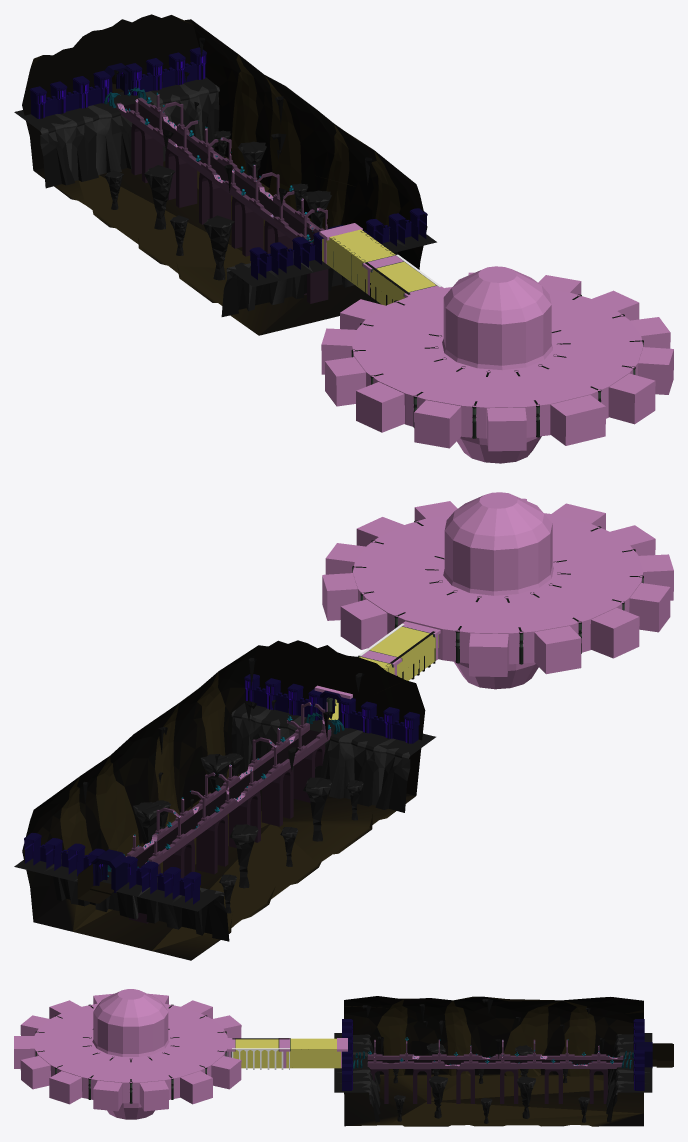
Rendered from CRIST_SCENE.FBX.
3 views of the same model, one above another, from view 1: azimuth 30°, elevation 25°; view 2: azimuth 150°, elevation 25°; view 3: azimuth 270°, elevation 25° (orthographic). The views are drawn at different scales.
Parts seen in each view (by area): view 1: sten_1, grot, skali, most, sten, Object027, Object026, sten.001; view 2: sten_1, grot, skali, most, sten, Object026, sten.001; view 3: grot, sten_1, skali, most, sten, Object027, Object026, Object031, sten.001, kris.
Part boxes in pixels (box(x1,y1,x2,y2)): sten_1: box(321, 266, 673, 463); grot: box(22, 14, 427, 335); skali: box(14, 37, 436, 316); most: box(116, 94, 328, 303); sten: box(29, 47, 427, 279); Object027: box(322, 229, 395, 293); Object026: box(370, 262, 436, 305); sten.001: box(351, 294, 643, 438); sten_1: box(322, 492, 673, 689); grot: box(22, 640, 425, 960); skali: box(14, 658, 435, 941); most: box(126, 702, 331, 923); sten: box(24, 674, 419, 904); Object026: box(370, 626, 438, 680); sten.001: box(352, 520, 643, 664); grot: box(344, 996, 673, 1126); sten_1: box(14, 989, 241, 1119); skali: box(334, 999, 652, 1125); most: box(367, 1039, 623, 1103); sten: box(342, 1019, 652, 1090); Object027: box(290, 1038, 340, 1068); Object026: box(233, 1039, 288, 1068); Object031: box(232, 1048, 289, 1069); sten.001: box(35, 1004, 226, 1103); kris: box(353, 1051, 633, 1068).
Bounding box in the file's own units: 21661 × 11881 × 61510.
